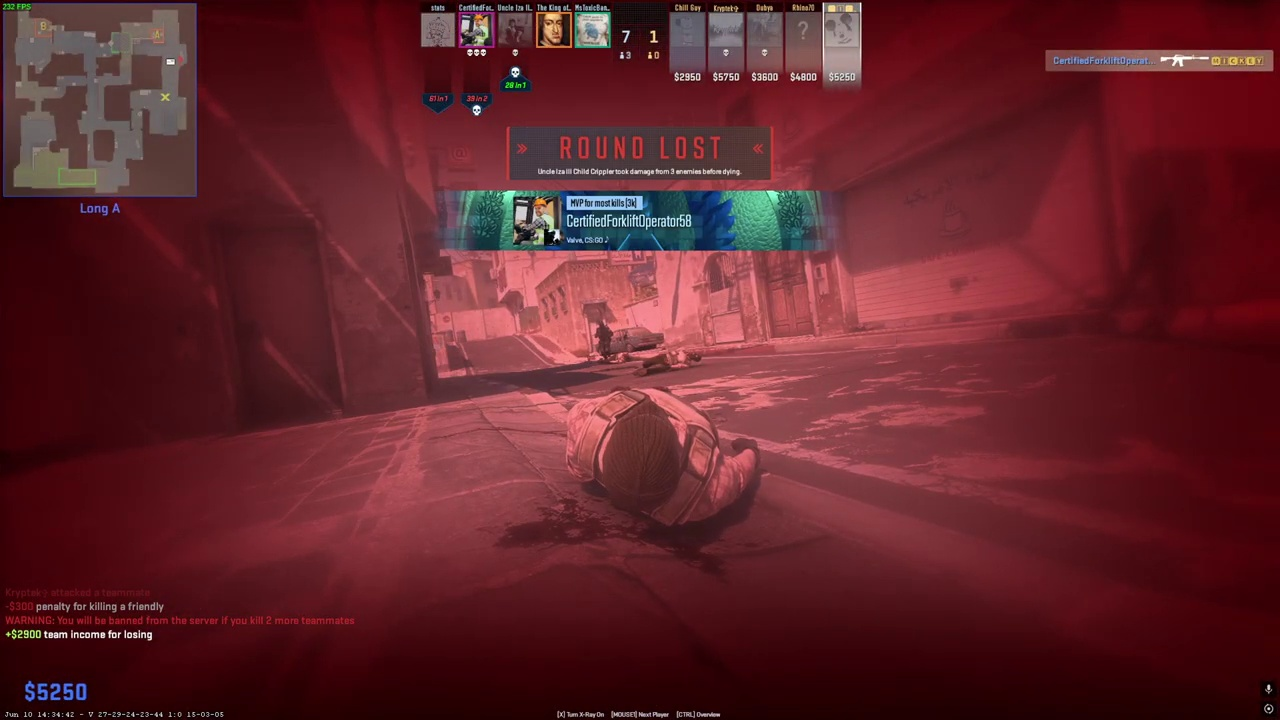CT: (594, 320, 613, 359)
